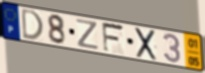3: (161, 33, 182, 65)
8: (47, 14, 67, 46)
D: (21, 8, 45, 42)
F: (101, 21, 126, 54)
X: (134, 27, 158, 63)
Z: (75, 18, 100, 51)
